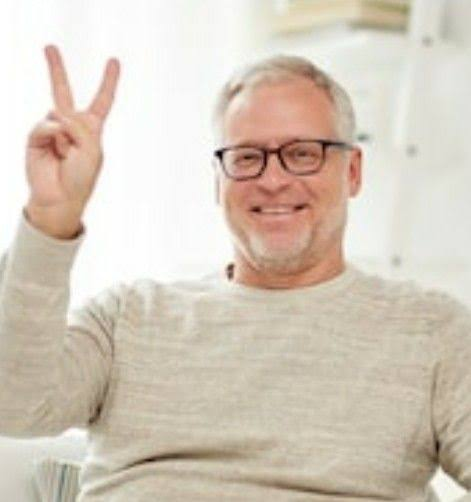peace_sign: (10, 37, 125, 209)
